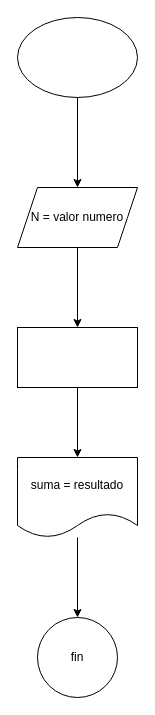
This 155x715 diagram has some shape labels left out. The shapes that lost their labels are listed below. From the top down, each one's centre as x and y in pixels, then its label:
the point at 77,57: inicio
the point at 77,357: suma = (N(N+1))/2
